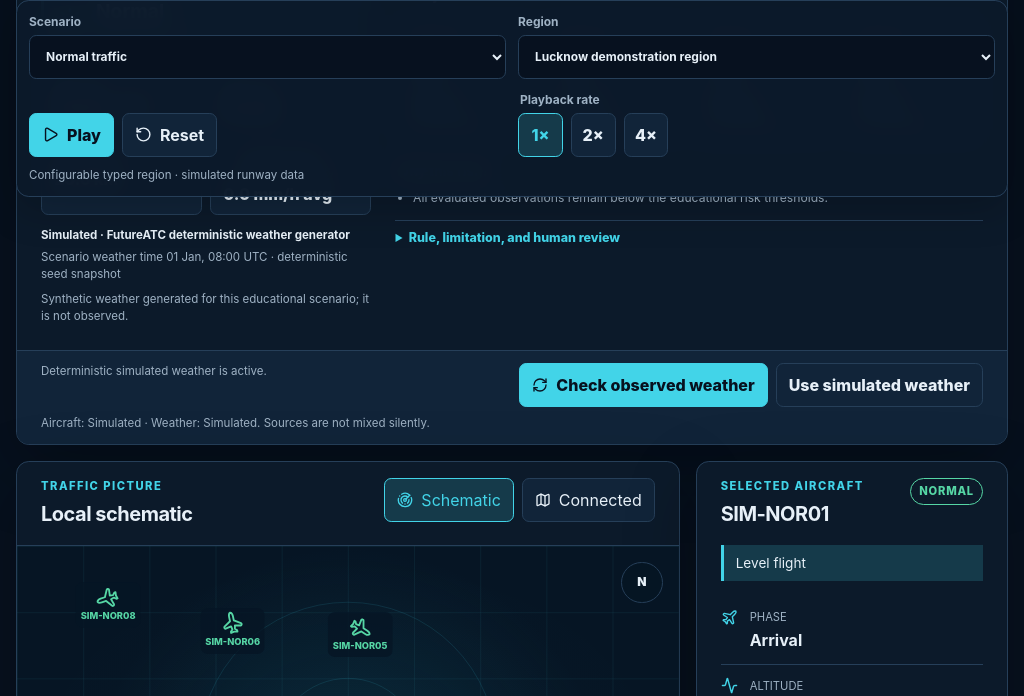
Test case: weather provider integration › uses a clearly labeled simulated fallback when offline
This screenshot has width=1024, height=696.
(page scrolled)
Click the button "Check observed weather" at [644, 385], box [519,363,768,407]
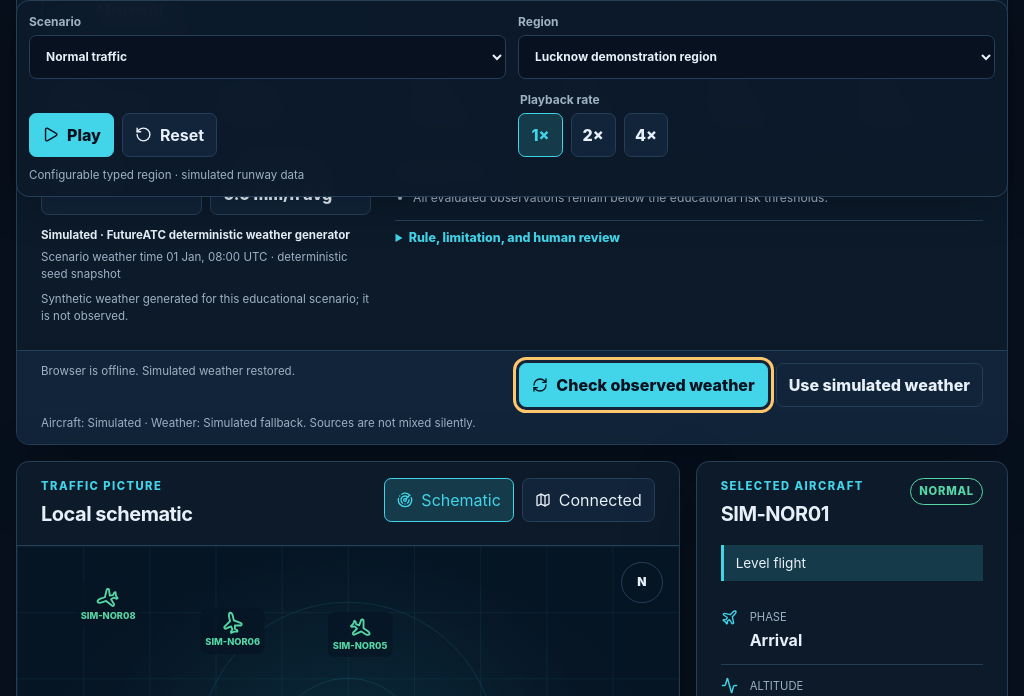
Expected: the text "Browser is offline. Simulated weather restored." is shown, [41,364,295,378]
